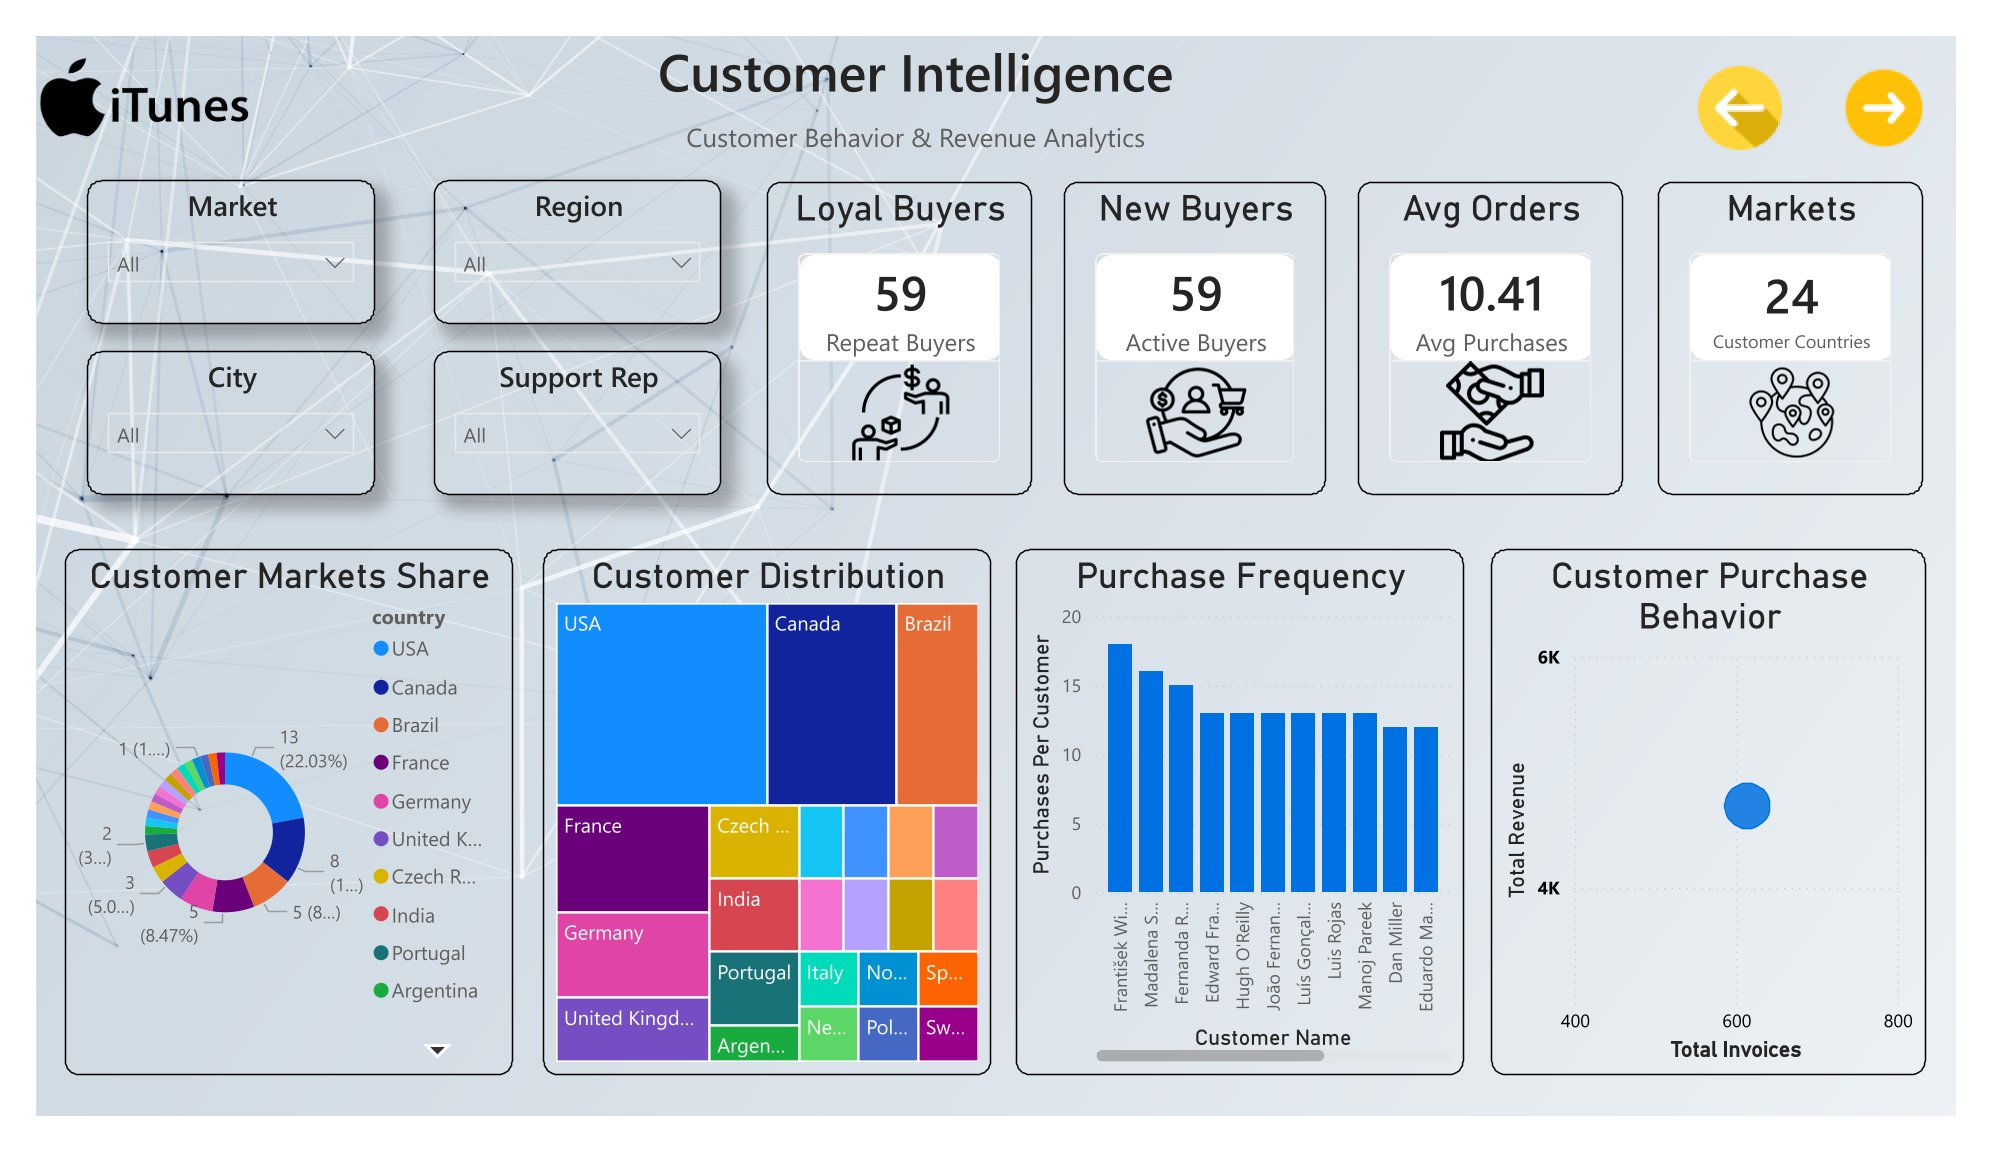

The dashboard page shown, as its layout file describes it:
{"tool":"powerbi","page":{"name":"Customer Intelligence","canvas":[1280,720],"ordinal":2},"visuals":[{"type":"image","box":[0,0,1280.3,720.4],"z":0},{"type":"image","box":[0,0,144,80],"z":1000},{"type":"actionButton","box":[1184,16,96,64],"z":2000},{"type":"actionButton","box":[1088,16,96,64],"z":3000},{"type":"textbox","title":"Customer Intelligence","box":[360.7,0,450.8,80],"z":4000},{"type":"cardVisual","title":"Loyal Buyers","fields":{"Data":["invoice.Repeat Buyers"]},"box":[487.1,97.4,177,208.6],"z":5000},{"type":"cardVisual","title":"New Buyers","fields":{"Data":["invoice.Active Buyers"]},"box":[684.7,97.4,175.6,208.6],"z":6000},{"type":"cardVisual","title":"Avg Orders","fields":{"Data":["invoice.Avg Purchases"]},"box":[881,97.4,177,208.6],"z":7000},{"type":"cardVisual","title":"Markets","fields":{"Data":["customer.Customer Countries"]},"box":[1081.3,97.4,177,208.6],"z":8000},{"type":"scatterChart","title":"Customer Purchase Behavior","fields":{"X":["invoice.Total Invoices"],"Y":["invoice.Total Revenue"],"Size":["invoice_line.Tracks Sold"]},"box":[970.2,341.7,289.5,351.3],"z":9000},{"type":"donutChart","title":"Customer Markets Share","fields":{"Y":["CountNonNull(customer.customer_id)"],"Category":["customer.country"]},"box":[19.2,341.7,299.1,351.3],"z":10000},{"type":"treemap","title":"Customer Distribution","fields":{"Group":["customer.country"],"Values":["customer.Total Customers"]},"box":[337.6,341.7,299.1,351.3],"z":11000},{"type":"clusteredColumnChart","title":"Purchase Frequency","fields":{"Y":["invoice.Purchases Per Customer"],"Category":["customer.Customer Name"]},"box":[653.2,341.7,299.1,351.3],"z":12000},{"type":"slicer","title":"Market","fields":{"Values":["customer.country"]},"box":[34.3,96.1,192.1,96.1],"z":13000},{"type":"slicer","title":"Support Rep","fields":{"Values":["media_type.name"]},"box":[264.8,209.9,192.1,96.1],"z":14000},{"type":"slicer","title":"City","fields":{"Values":["customer.city"]},"box":[34.3,209.9,192.1,96.1],"z":15000},{"type":"slicer","title":"Region","fields":{"Values":["customer.state"]},"box":[264.8,96.1,192.1,96.1],"z":16000}]}

Visuals, with their boxes in screenshot pixels (x1, y1, x2, y2), scaled from the page's 1280x720 canvas onto the 1992x1152 screenshot:
image: (0,0,1991,1151)
image: (0,0,224,128)
actionButton: (1843,26,1991,128)
actionButton: (1693,26,1843,128)
"Customer Intelligence" textbox: (561,0,1263,128)
"Loyal Buyers" cardVisual: (758,156,1034,490)
"New Buyers" cardVisual: (1066,156,1339,490)
"Avg Orders" cardVisual: (1371,156,1647,490)
"Markets" cardVisual: (1683,156,1958,490)
"Customer Purchase Behavior" scatterChart: (1510,547,1960,1109)
"Customer Markets Share" donutChart: (30,547,495,1109)
"Customer Distribution" treemap: (525,547,991,1109)
"Purchase Frequency" clusteredColumnChart: (1017,547,1482,1109)
"Market" slicer: (53,154,352,308)
"Support Rep" slicer: (412,336,711,490)
"City" slicer: (53,336,352,490)
"Region" slicer: (412,154,711,308)
